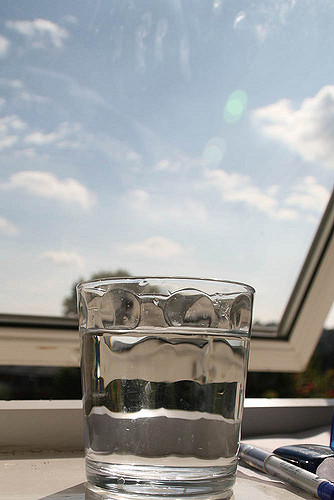glass of water: (80, 287, 241, 499)
